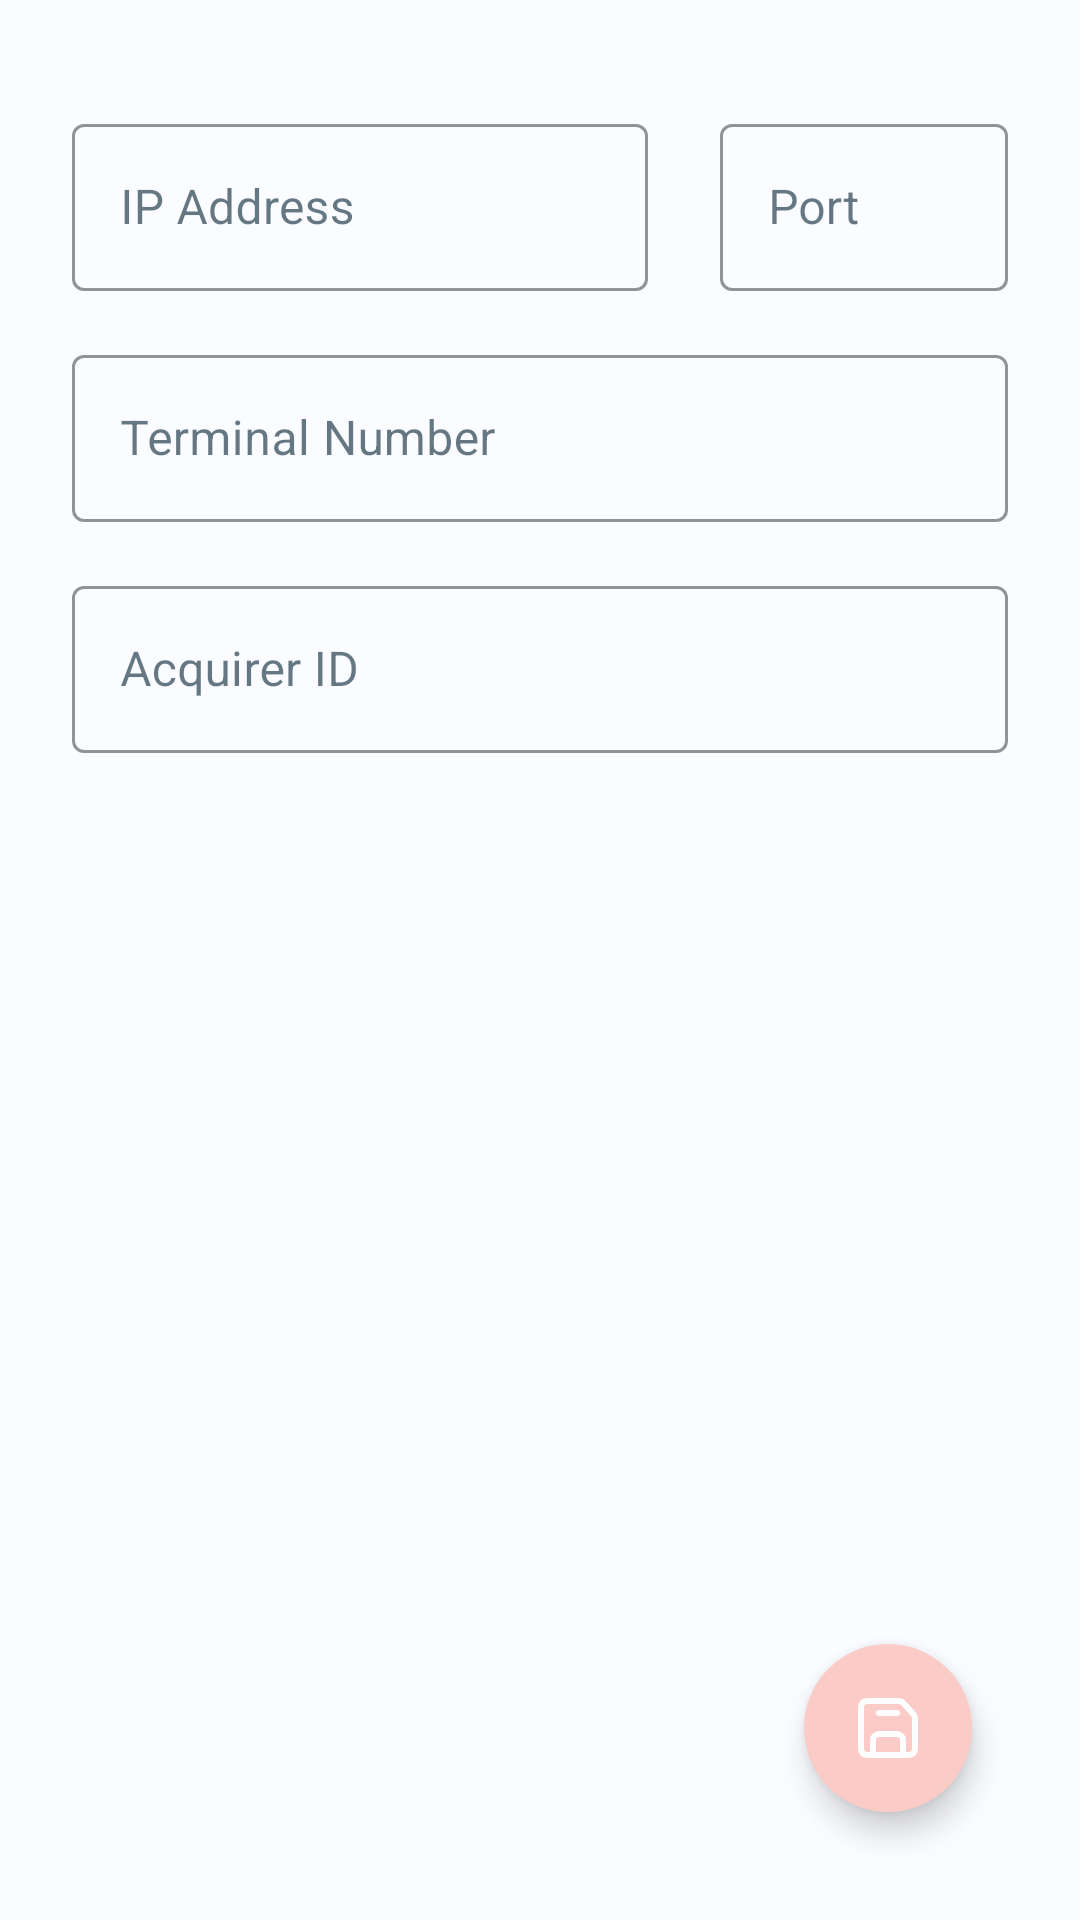

Icon click points for this 1080*1920 phone screenshot, format (x,y):
save: (888,1728)
